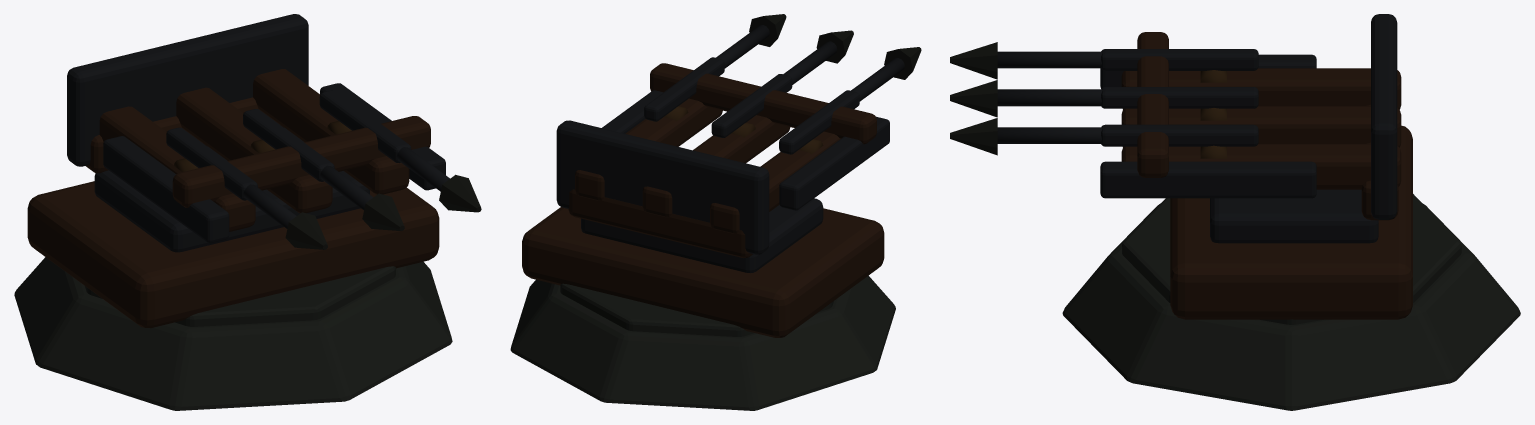
Rendered from TowerMulti2_pose.obj.
The picture shows the model from 3 angles, left to right: view 1: azimuth 30°, elevation 25°; view 2: azimuth 150°, elevation 25°; view 3: azimuth 270°, elevation 25°; orthographic projection. The views are drawn at different scales.
Visible parts, largest first — view 1: rough_stone_plinth_lower_course, oak_firing_deck, iron_volley_shield, volley_bow_stock.002, volley_bow_stock.001, rough_stone_plinth_upper_course, iron_turntable, extra_bow_brace, volley_bow_stock, volley_bow_limb, volley_bow_limb.002, volley_bow_limb.001 (+11 smaller); view 2: rough_stone_plinth_lower_course, oak_firing_deck, iron_volley_shield, iron_turntable, oak_windlass_rail, rough_stone_plinth_upper_course, extra_bow_brace, volley_bow_stock.001, volley_bow_stock.002, volley_bow_stock, volley_bow_limb, volley_bow_limb.002 (+11 smaller); view 3: rough_stone_plinth_lower_course, oak_firing_deck, iron_turntable, extra_bow_brace.001, rough_stone_plinth_upper_course, volley_bow_stock.001, volley_bow_stock, iron_volley_shield, volley_bow_stock.002, volley_iron_guide.002, volley_iron_guide, volley_iron_guide.001 (+10 smaller).
Boxes of the visible parts, x1=… form: rough_stone_plinth_lower_course: x1=14, y1=257, x2=452, y2=410; oak_firing_deck: x1=27, y1=181, x2=439, y2=328; iron_volley_shield: x1=67, y1=14, x2=308, y2=166; volley_bow_stock.002: x1=253, y1=69, x2=409, y2=194; volley_bow_stock.001: x1=176, y1=87, x2=332, y2=213; rough_stone_plinth_upper_course: x1=85, y1=266, x2=395, y2=326; iron_turntable: x1=94, y1=127, x2=369, y2=252; extra_bow_brace: x1=103, y1=136, x2=229, y2=243; volley_bow_stock: x1=99, y1=106, x2=255, y2=231; volley_bow_limb: x1=172, y1=154, x2=273, y2=207; volley_bow_limb.002: x1=333, y1=116, x2=430, y2=170; volley_bow_limb.001: x1=256, y1=135, x2=349, y2=187; rough_stone_plinth_lower_course: x1=510, y1=275, x2=895, y2=410; oak_firing_deck: x1=522, y1=207, x2=884, y2=337; iron_volley_shield: x1=556, y1=120, x2=769, y2=254; iron_turntable: x1=581, y1=198, x2=823, y2=272; oak_windlass_rail: x1=568, y1=189, x2=752, y2=258; rough_stone_plinth_upper_course: x1=560, y1=283, x2=833, y2=336; extra_bow_brace: x1=779, y1=116, x2=889, y2=210; volley_bow_stock.001: x1=642, y1=115, x2=790, y2=217; volley_bow_stock.002: x1=575, y1=98, x2=722, y2=200; volley_bow_stock: x1=710, y1=131, x2=840, y2=233; volley_bow_limb: x1=788, y1=96, x2=876, y2=144; volley_bow_limb.002: x1=650, y1=63, x2=735, y2=111; rough_stone_plinth_lower_course: x1=1062, y1=203, x2=1520, y2=410; oak_firing_deck: x1=1170, y1=125, x2=1412, y2=319; iron_turntable: x1=1210, y1=189, x2=1378, y2=243; extra_bow_brace.001: x1=1100, y1=161, x2=1316, y2=198; rough_stone_plinth_upper_course: x1=1122, y1=194, x2=1461, y2=324; volley_bow_stock.001: x1=1121, y1=106, x2=1401, y2=147; volley_bow_stock: x1=1121, y1=68, x2=1401, y2=109; iron_volley_shield: x1=1371, y1=14, x2=1397, y2=219; volley_bow_stock.002: x1=1121, y1=144, x2=1401, y2=189; volley_iron_guide.002: x1=1101, y1=124, x2=1258, y2=146; volley_iron_guide: x1=1101, y1=49, x2=1258, y2=70; volley_iron_guide.001: x1=1101, y1=87, x2=1258, y2=108.
Size of the model in its own units: 1.74 by 1.03 by 2.16.
